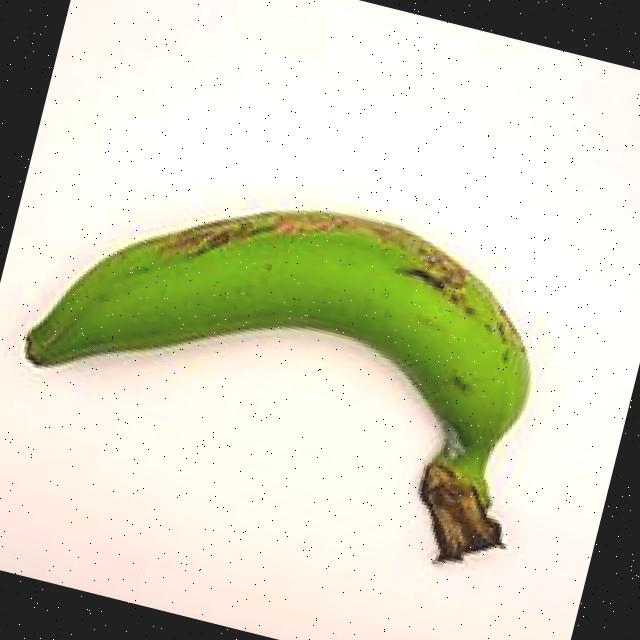Raw: (0, 112, 631, 614)
